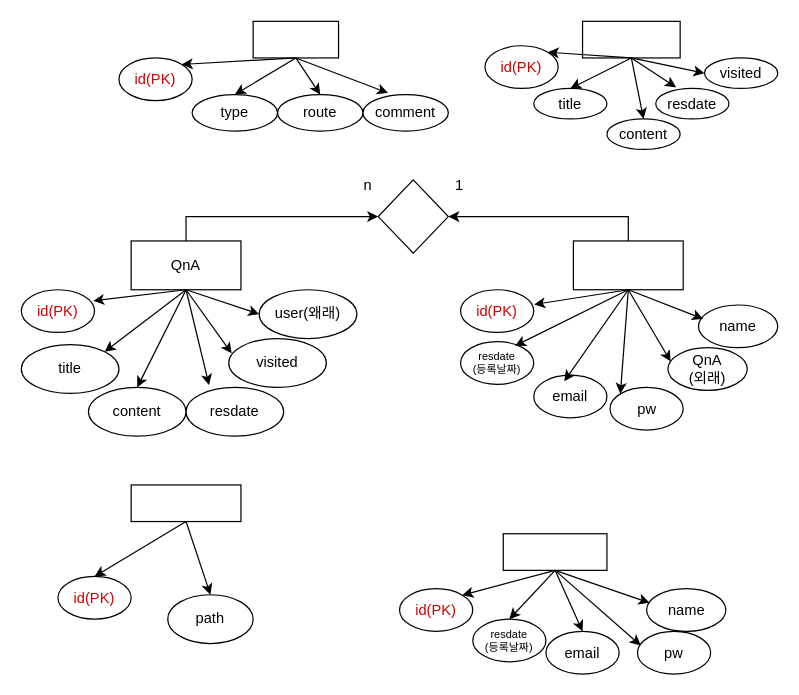
The diagram is 799 pixels wide and 695 high, and some of its shapes have lost their labels. The shapes that lost their labels are listed below. From the top down, each one's box as (x1, y1, x2, y2) in pixels, then its label:
(252, 20, 339, 58): traffic
(581, 20, 680, 58): notice
(377, 179, 448, 253): 등록
(572, 240, 683, 290): user
(130, 484, 241, 522): datas
(502, 533, 607, 570): manager
